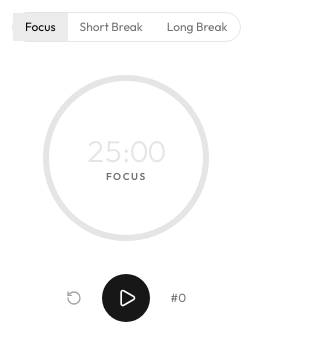
Test case: PomodoroTimer › switch session type via tab click
Click the button "Short Break": (111, 27) [68,13,155,41]
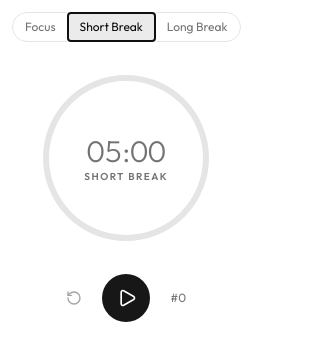
Now the text "05:00" is shown, box [87,132,166,168]
